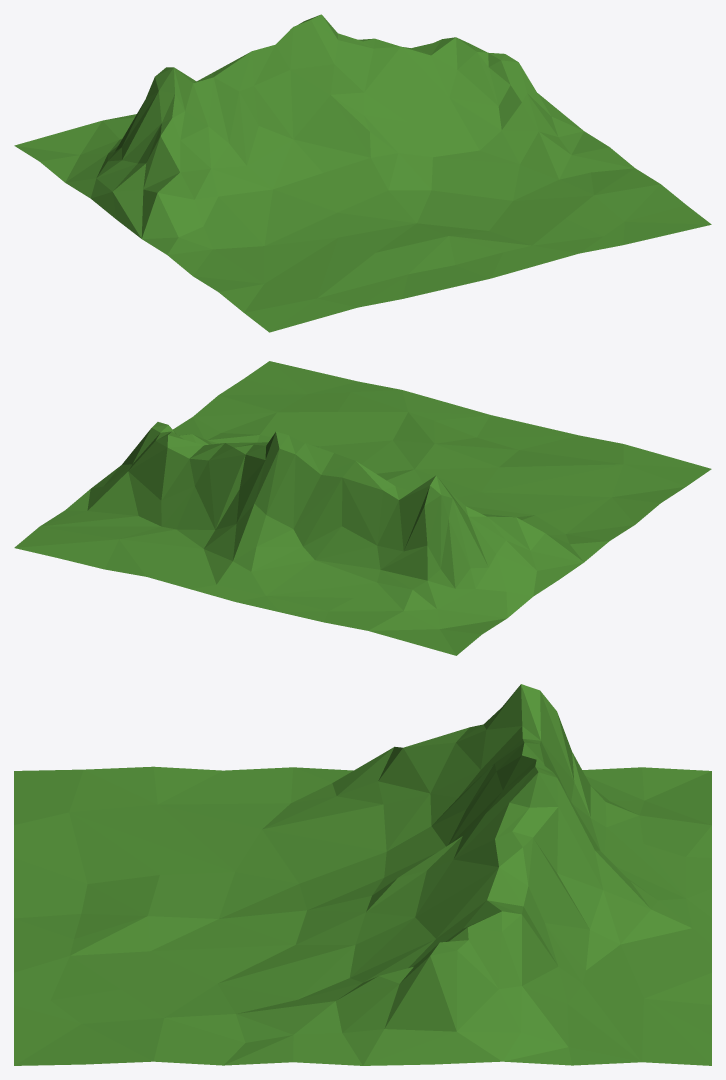
File: terrains-terrain-mountain-range.glb
3 views of the same model, one above another, from view 1: azimuth 30°, elevation 25°; view 2: azimuth 150°, elevation 25°; view 3: azimuth 270°, elevation 25° (orthographic). The views are drawn at different scales.
Visible parts, largest first — view 1: terrain-mountain-range; view 2: terrain-mountain-range; view 3: terrain-mountain-range.
Part boxes in pixels (left/top/right/bottom): terrain-mountain-range: left=14, top=14, right=711, bottom=332; terrain-mountain-range: left=14, top=361, right=711, bottom=655; terrain-mountain-range: left=14, top=684, right=711, bottom=1065.
Size of the model in its own units: 60 by 15.56 by 60.
